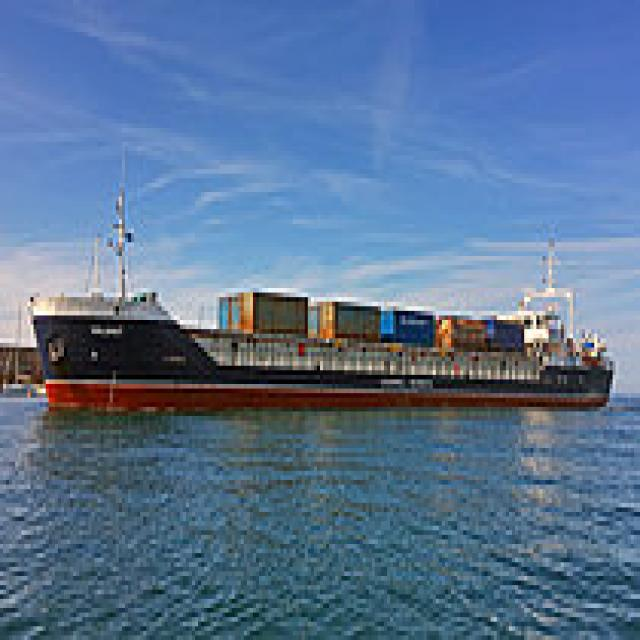Cargo: (21, 132, 612, 412)
